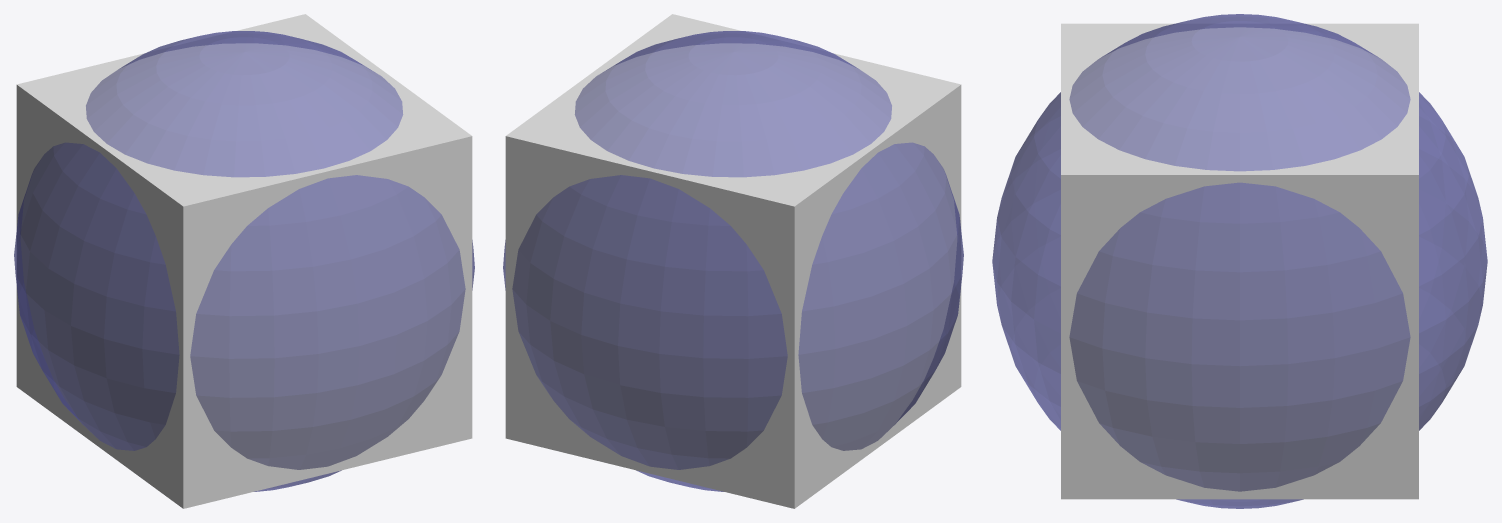
The model's file is transparency-test.gltf.
3 renders of one model, left to right at view 1: azimuth 30°, elevation 25°; view 2: azimuth 150°, elevation 25°; view 3: azimuth 270°, elevation 25°, orthographic. The views are drawn at different scales.
Parts seen in each view (by area): view 1: Cube, Sphere; view 2: Cube, Sphere; view 3: Cube, Sphere.
Boxes of the visible parts, box(x1,y1,x2,y2) form: Cube: box(16, 14, 472, 508); Sphere: box(14, 31, 474, 491); Cube: box(505, 14, 961, 508); Sphere: box(503, 31, 963, 491); Cube: box(1061, 23, 1418, 499); Sphere: box(992, 14, 1487, 508).
Bounding box in the file's own units: 13.59 × 13.59 × 13.59.
